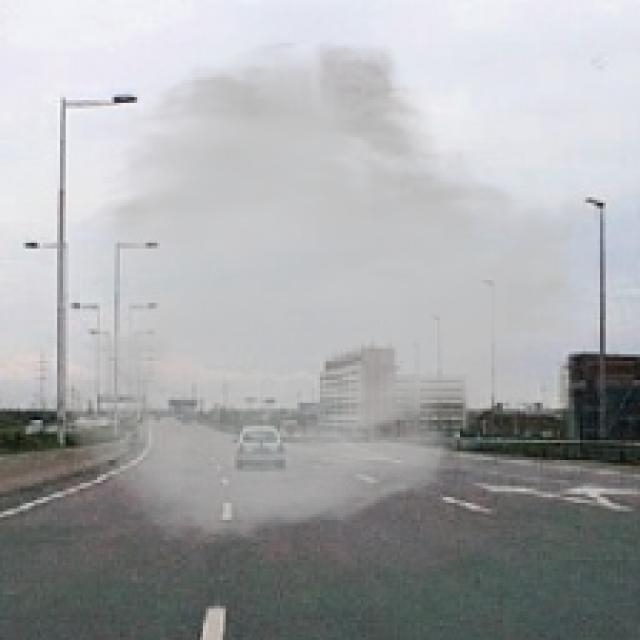smoke: (54, 34, 609, 549)
